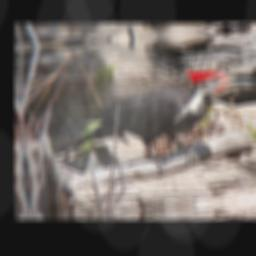Woodpecker: (48, 64, 256, 182)
